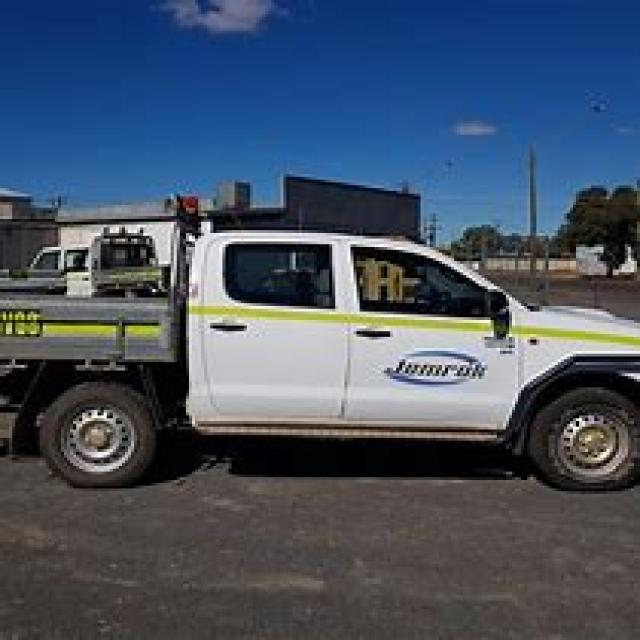light_vehicle: (6, 202, 637, 503)
